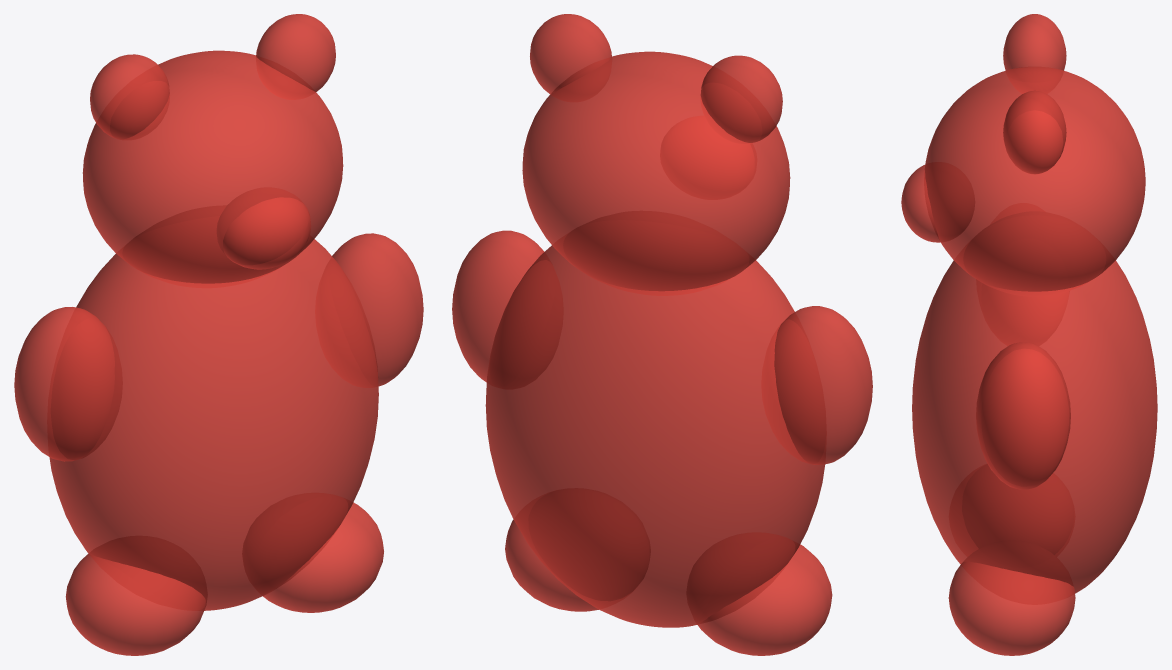
The model's file is items-gummybear.glb.
3 views of the same model, side by side, from view 1: azimuth 30°, elevation 25°; view 2: azimuth 150°, elevation 25°; view 3: azimuth 270°, elevation 25° (orthographic). The views are drawn at different scales.
Parts seen in each view (by area): view 1: GummyBear__Body; view 2: GummyBear__Body; view 3: GummyBear__Body.
Boxes of the visible parts, <box> form: GummyBear__Body: <box>14,14,423,655</box>; GummyBear__Body: <box>452,14,872,655</box>; GummyBear__Body: <box>901,14,1157,655</box>.
Size of the model in its own units: 3.83 by 5.36 by 2.26.
